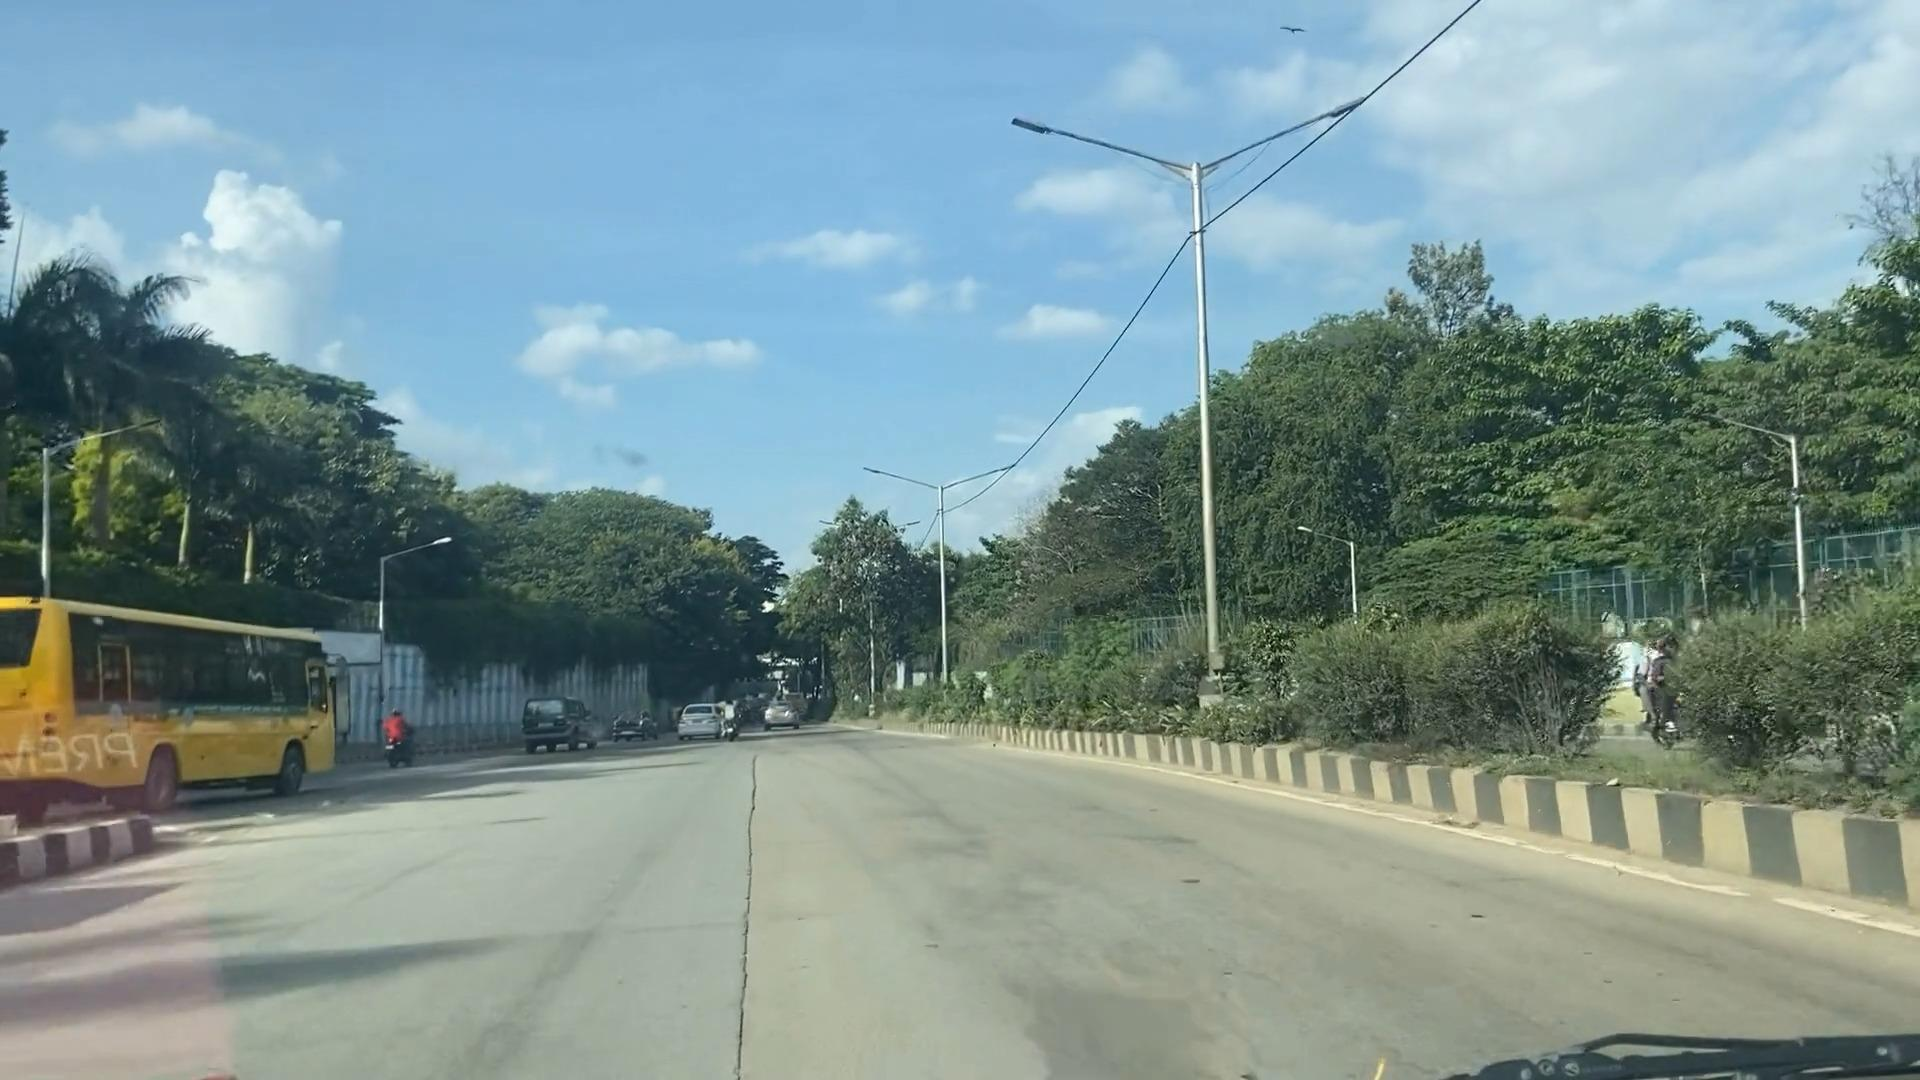RoadDamages: (723, 744, 787, 1080)
